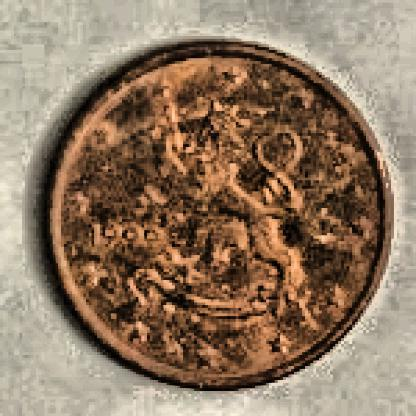coin: (37, 37, 396, 392)
